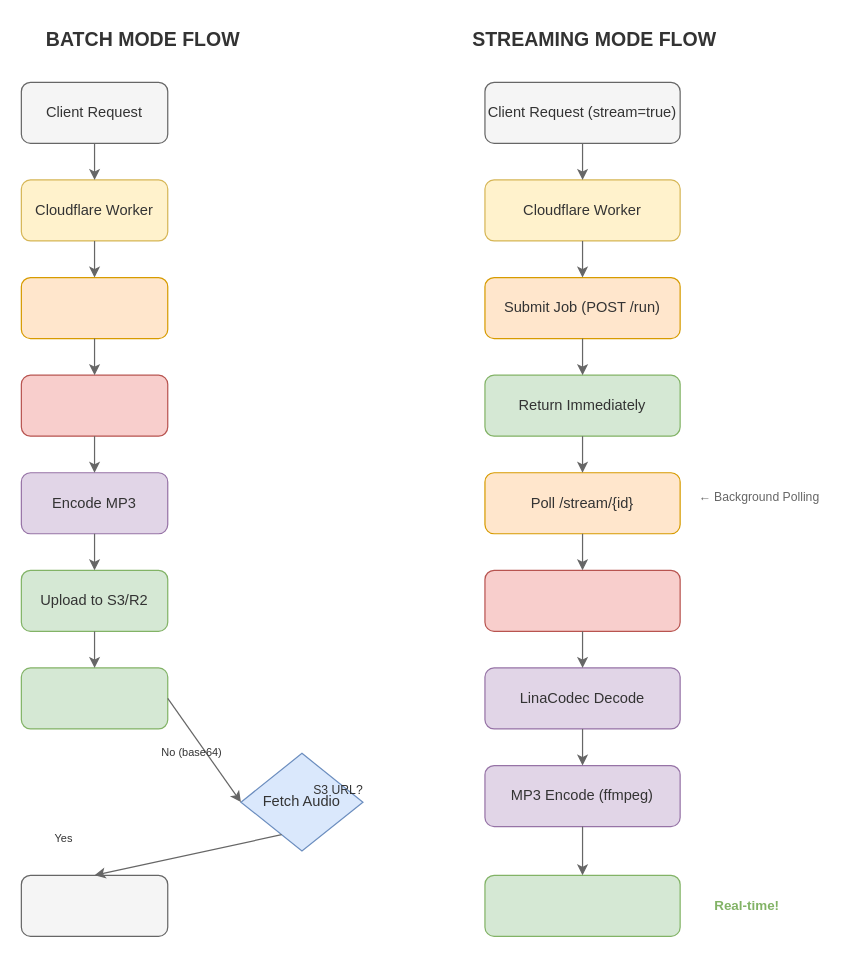
Image size: 848x958. Some labels were removed from this diagram. The shapes that lost their labels are listed below. From the top down, each one's centre as x and y in pixels, then its label:
At (94,307): "RunPod /runsync".
At (94,405): "Generate Audio".
At (582,600): "Generate & Stream Chunks".
At (94,698): "Return URL/base64".
At (94,905): "Client".
At (582,905): "Stream to Client".
